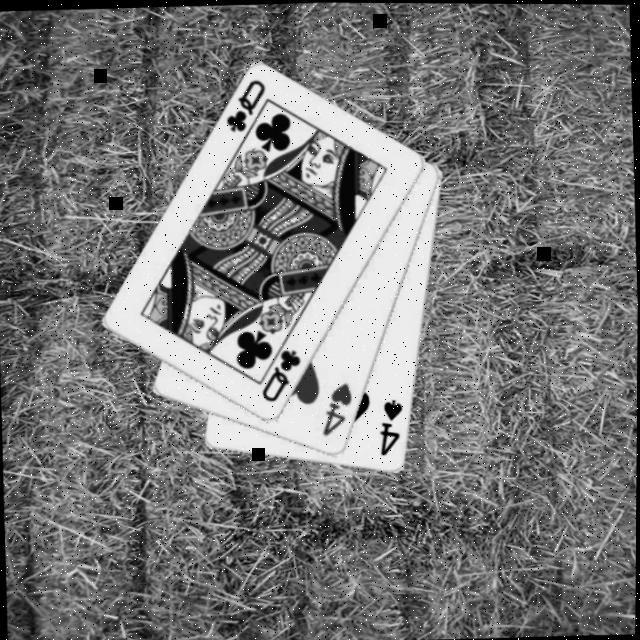4H: (316, 381, 354, 440)
4S: (374, 398, 406, 460)
QC: (256, 347, 304, 407), (220, 77, 268, 137)
